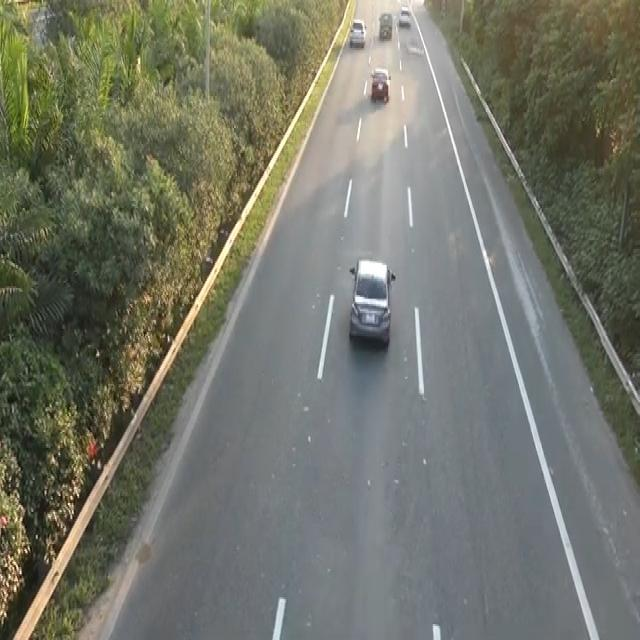bus: (346, 252, 398, 354)
